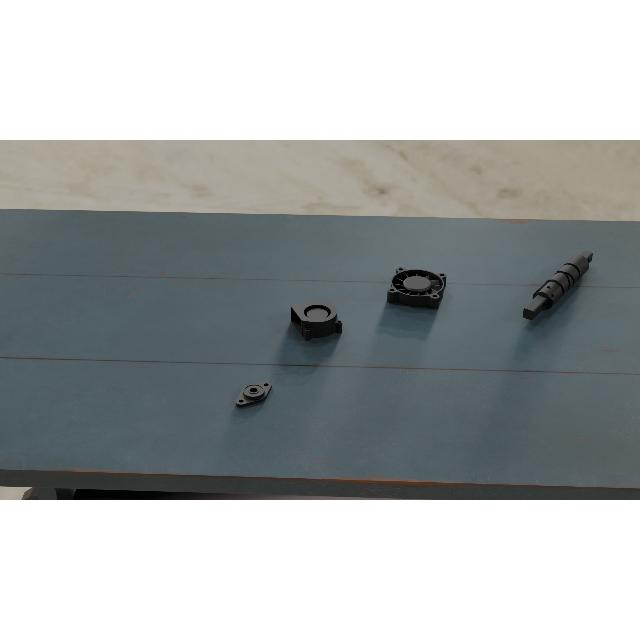Pieza1: (518, 245, 598, 328)
Pieza2: (228, 374, 280, 412)
Pieza3: (291, 297, 345, 343)
Pieza4: (386, 266, 448, 312)
